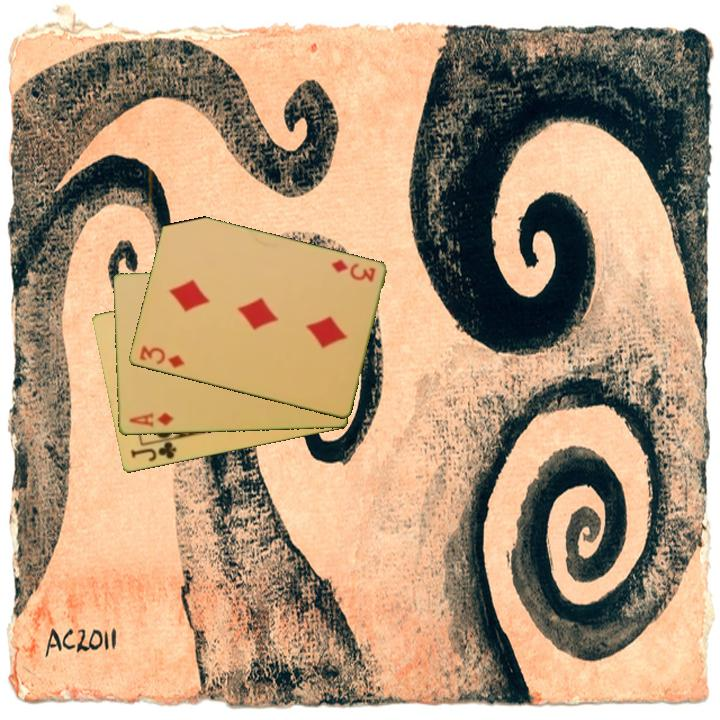3d: (136, 342, 187, 371), (327, 256, 378, 285)
Ad: (125, 409, 176, 430)
Jc: (127, 436, 180, 465)
